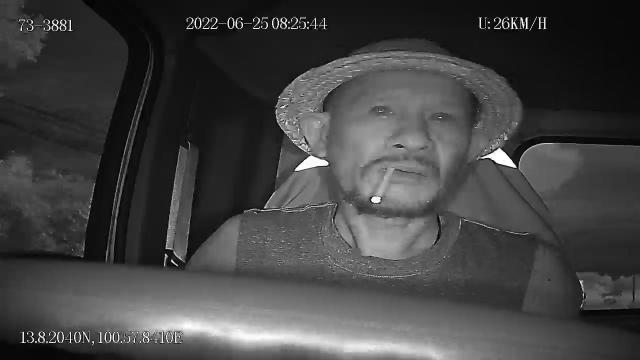SafeDriving: (363, 94, 402, 124), (422, 105, 459, 130)
Smoking: (370, 165, 396, 208)
